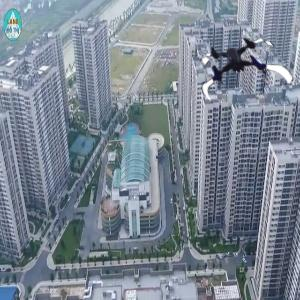drone: (194, 25, 284, 115)
